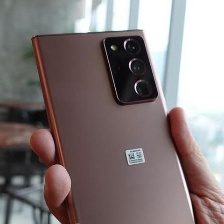phone: (25, 24, 203, 224)
